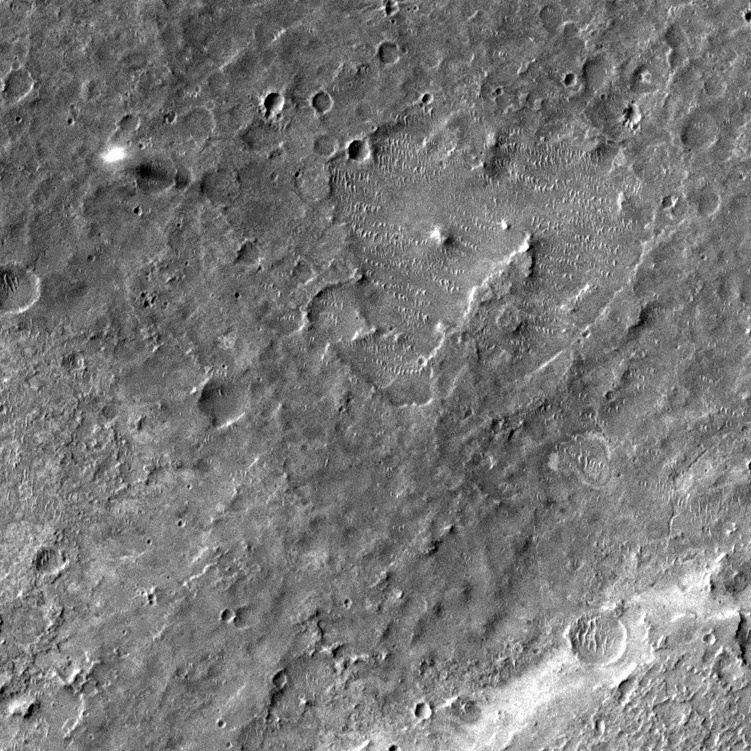dust_devil: (99, 142, 190, 188)
